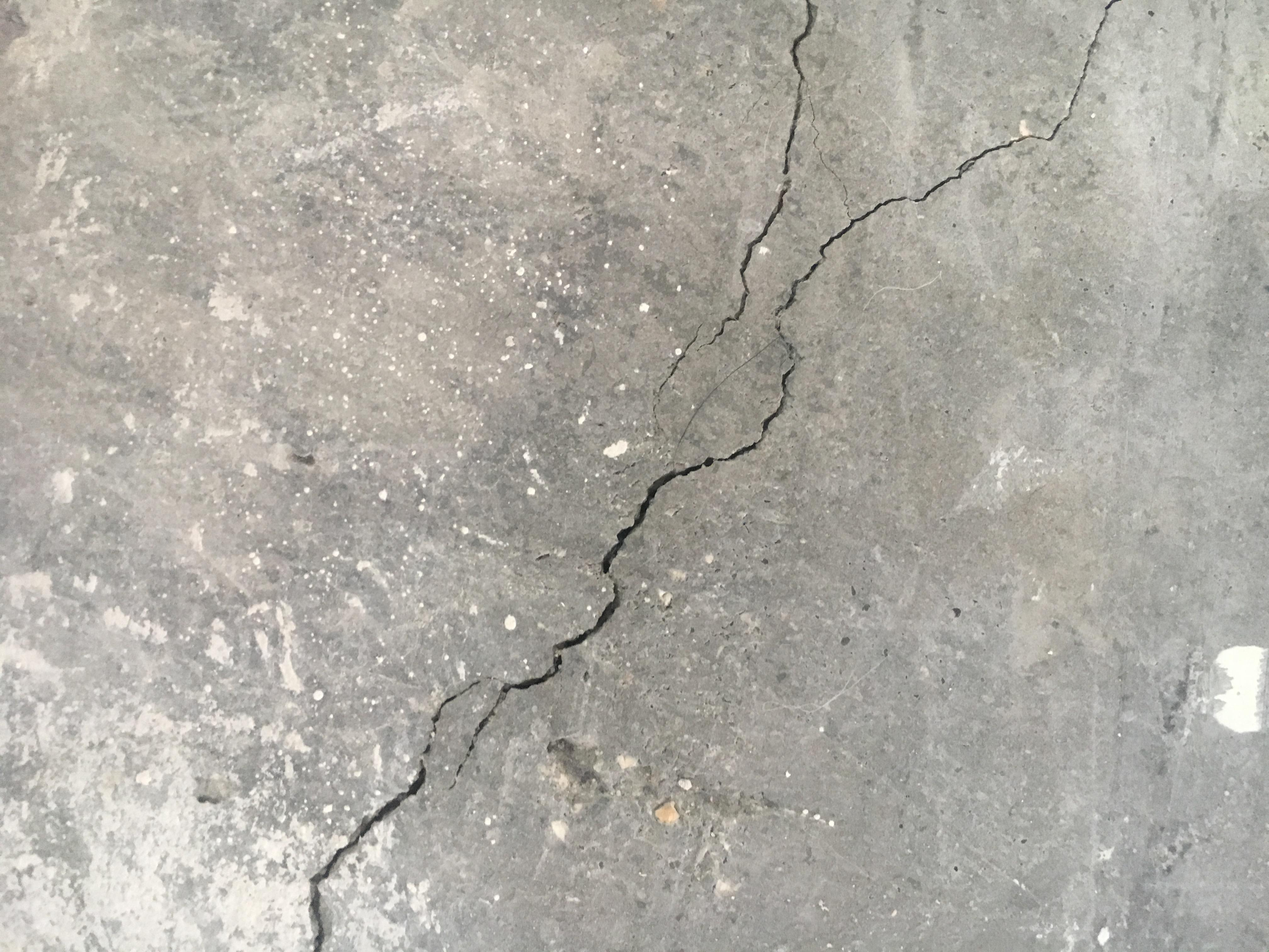Diagonal Crack: (303, 1, 1120, 947)
